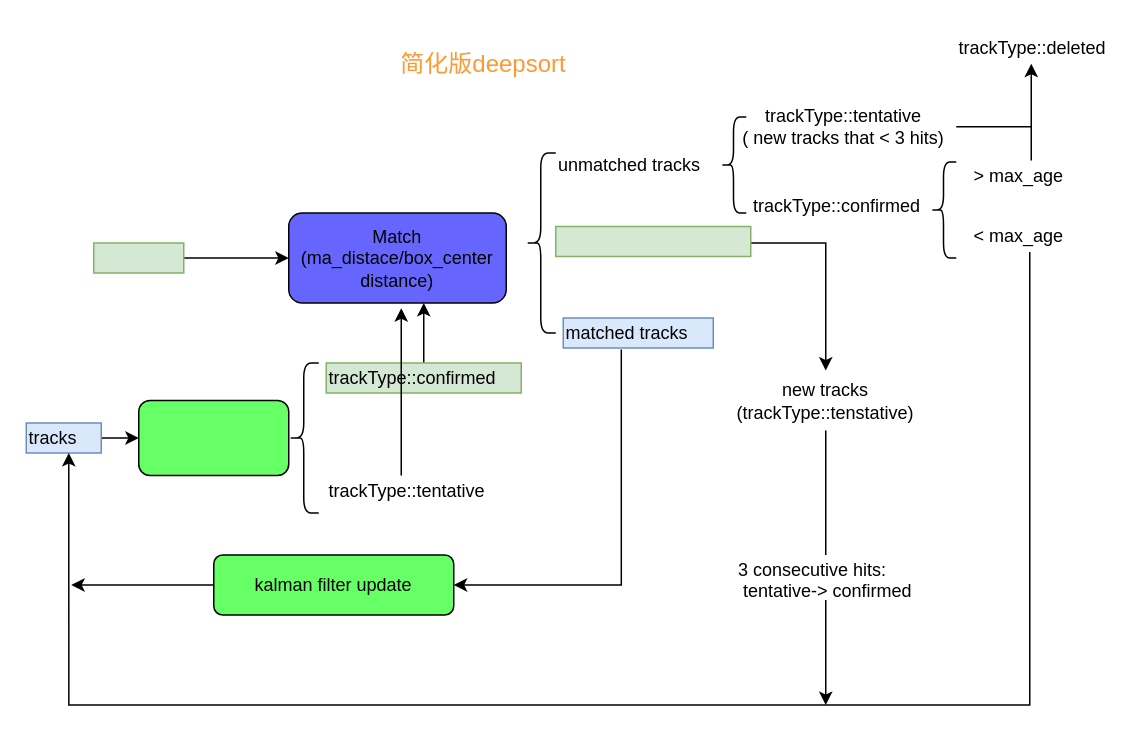
Image size: 1148x743. Some labels were removed from this diagram. Each missing label, with the centre of its shape:
"detection" goes at [138,257].
"kalman filter predict" goes at [213,437].
"unmatched detections" goes at [652,240].
